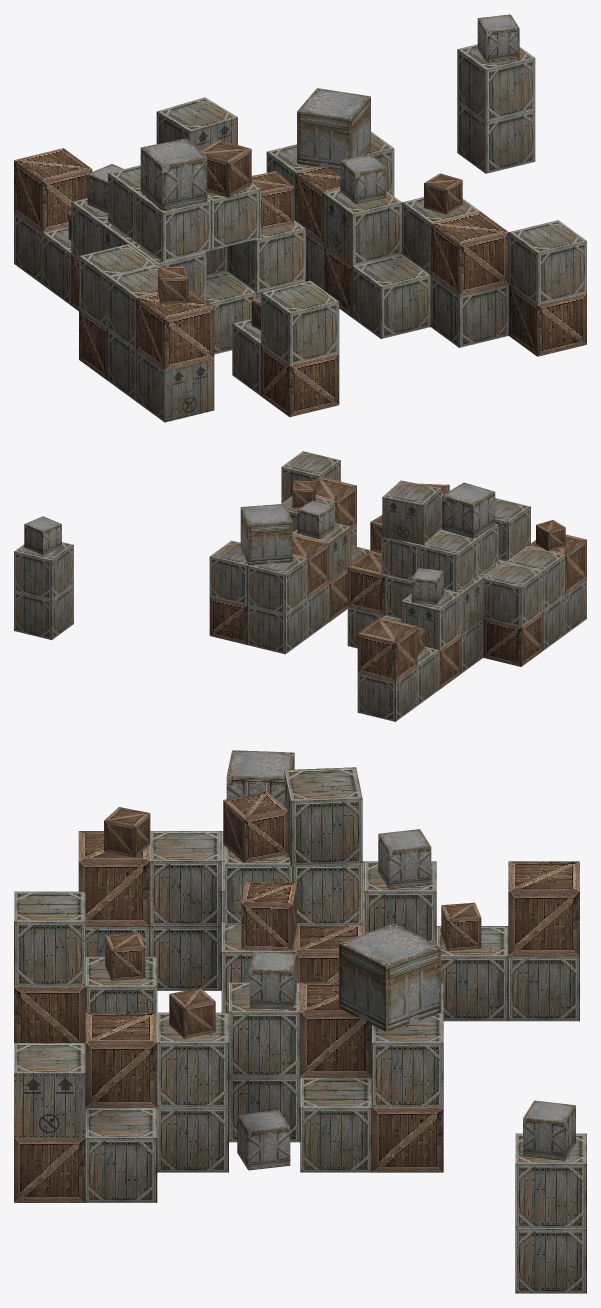
The model's file is M11Z2_SCUDHouse01_F_CRT.glb.
3 renders of one model, top to bottom at view 1: azimuth 30°, elevation 25°; view 2: azimuth 150°, elevation 25°; view 3: azimuth 270°, elevation 25°, orthographic. The views are drawn at different scales.
Parts seen in each view (by area): view 1: M11Z2_SCUDHOUSE01_F_CRT; view 2: M11Z2_SCUDHOUSE01_F_CRT; view 3: M11Z2_SCUDHOUSE01_F_CRT.
Boxes of the visible parts, box(x1,y1,x2,y2) form: M11Z2_SCUDHOUSE01_F_CRT: box(14, 14, 586, 422); M11Z2_SCUDHOUSE01_F_CRT: box(14, 451, 586, 721); M11Z2_SCUDHOUSE01_F_CRT: box(14, 750, 586, 1293).
Bounding box in the file's own units: 22 × 7.9 × 16.
Materials: 5 (5 with a texture image).
